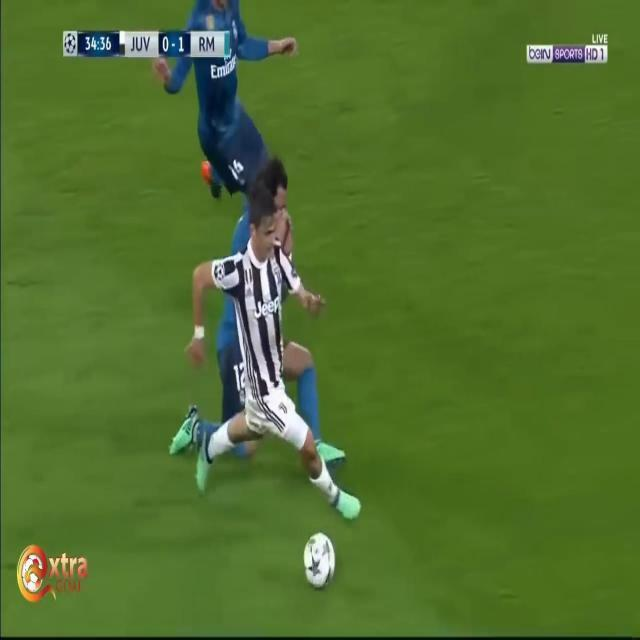ball: (291, 504, 341, 604)
player: (199, 151, 342, 536)
